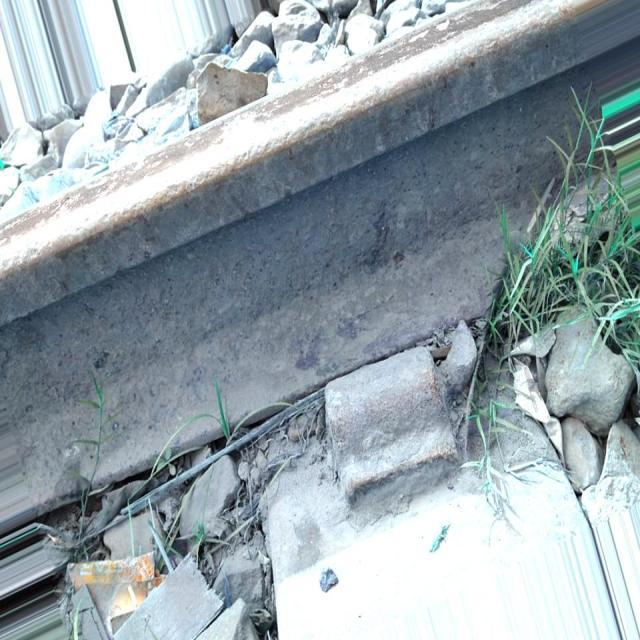Missing Fastener: (296, 291, 498, 578)
